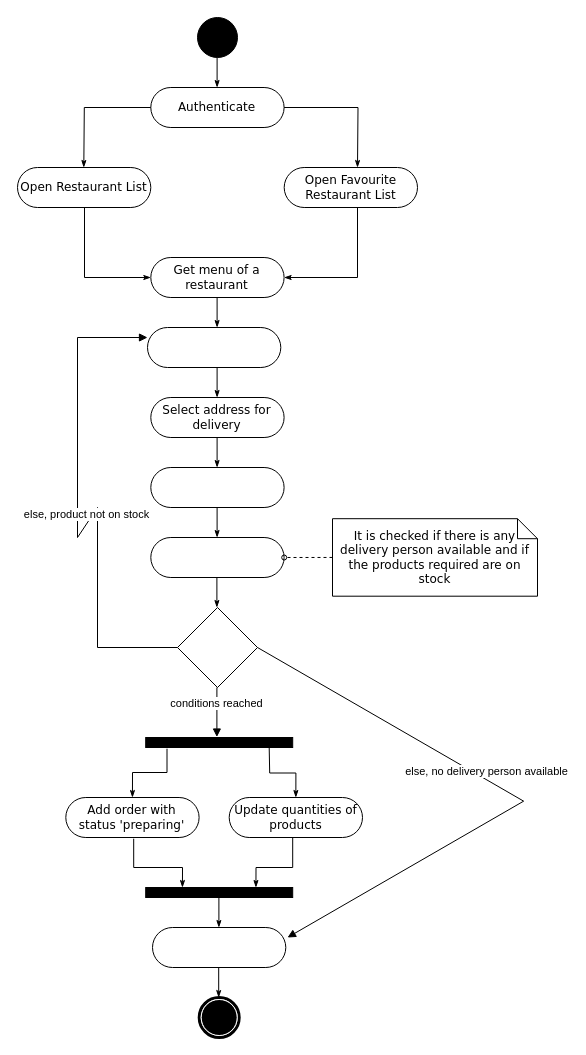
Image size: 586x1055. Some labels were removed from this diagram. Each missing label, with the centre of its shape:
Check order: [217,557]
Close order: [219,947]
Initiate order: [217,487]
Select products for order: [213,347]
